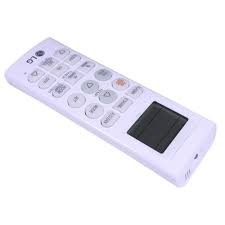remote control: (0, 22, 225, 198)
